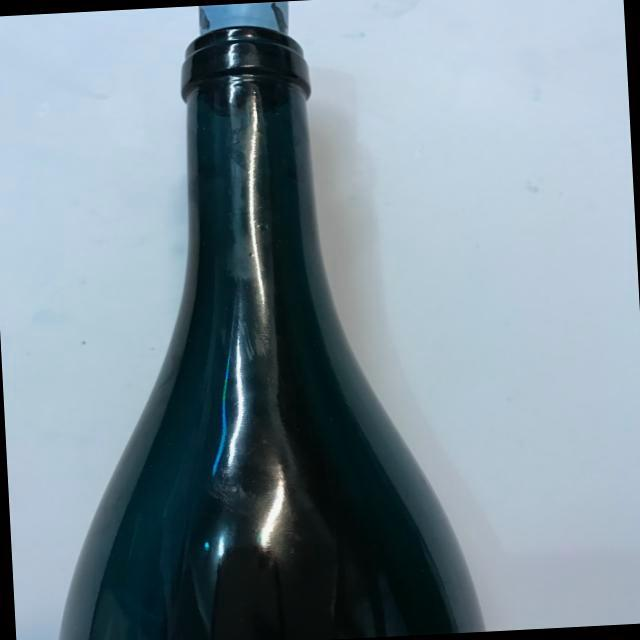glass: (16, 0, 491, 640)
